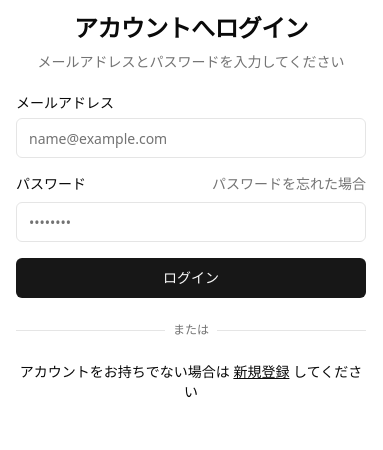
it: LoginForm › ログイン失敗時にエラーメッセージが表示されること
# フォームに値を入力して送信
Type "test@example.com" into the field labelled "メールアドレス" at (191, 138), box [16,118,366,158]
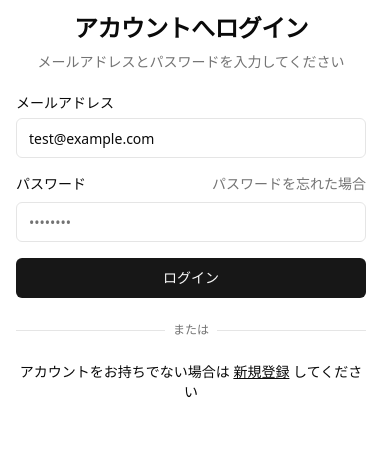
Type "password123" into the password field labelled "パスワード" at (191, 222), box [16,202,366,242]
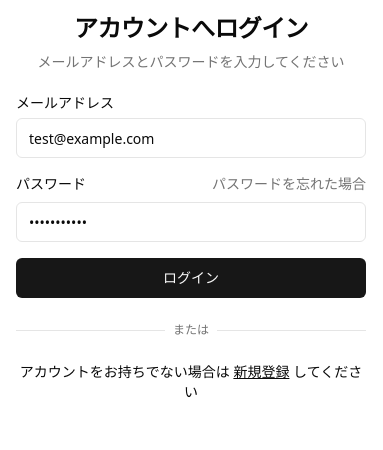
Click the button "ログイン" at (191, 278), box [16,258,366,298]
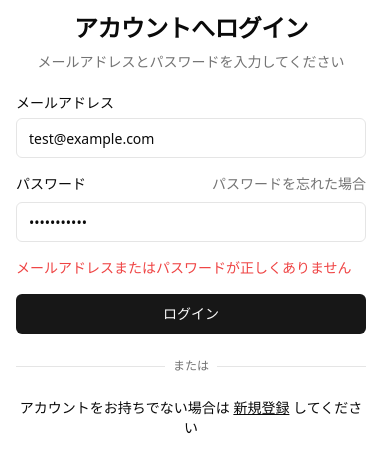
Expected: the text "メールアドレスまたはパスワードが正しくありません" is shown, [16,258,366,278]
